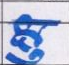u_matra: (7, 50, 46, 62)
